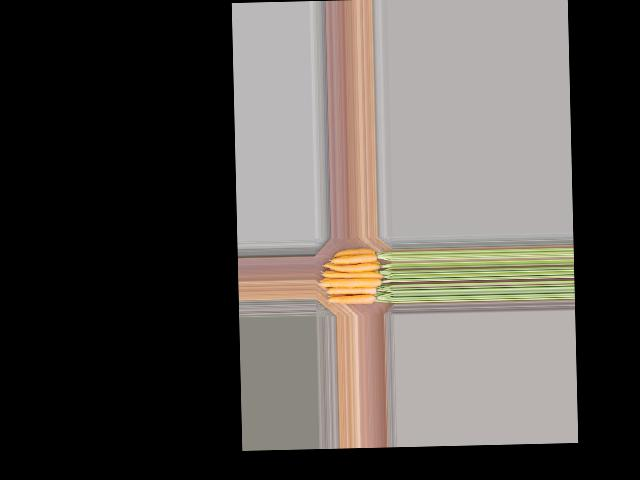carrot: (327, 244, 376, 258)
